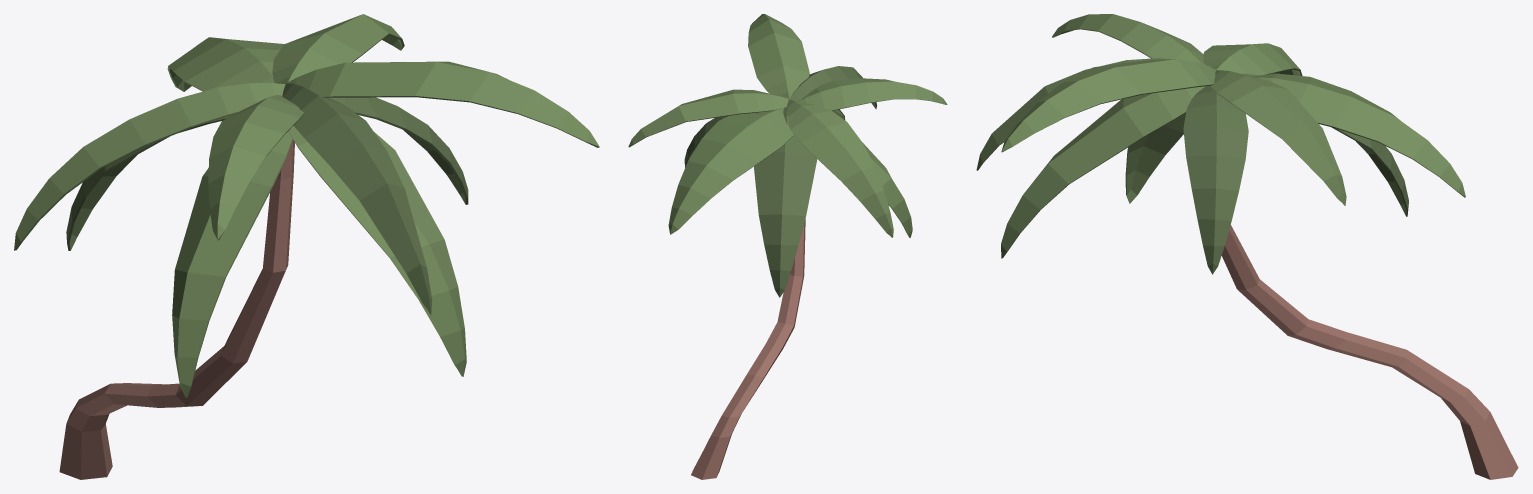
File: palm_2.glb
3 renders of one model, left to right at view 1: azimuth 30°, elevation 25°; view 2: azimuth 150°, elevation 25°; view 3: azimuth 270°, elevation 25°, orthographic. The views are drawn at different scales.
Parts seen in each view (by area): view 1: palm_2; view 2: palm_2; view 3: palm_2.
Boxes of the visible parts, box(x1,y1,x2,y2) form: palm_2: box(14, 14, 599, 479); palm_2: box(628, 14, 947, 479); palm_2: box(976, 14, 1518, 479).
Size of the model in its own units: 2.32 by 2.91 by 3.18.
